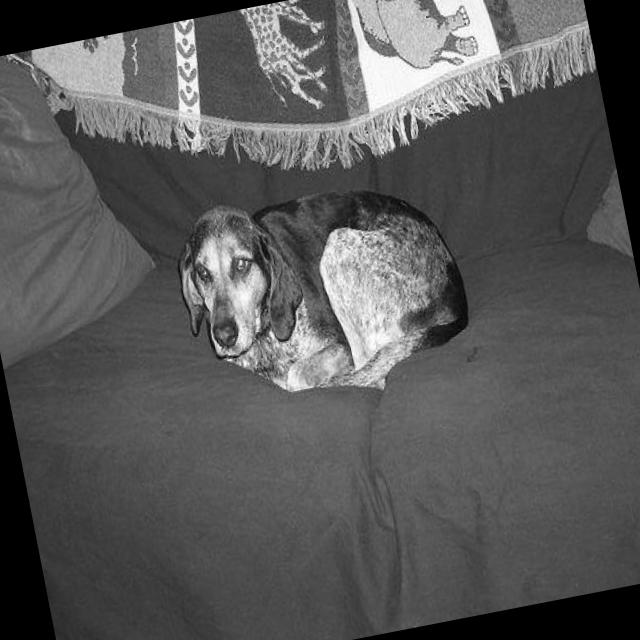laying down: (162, 152, 486, 426)
